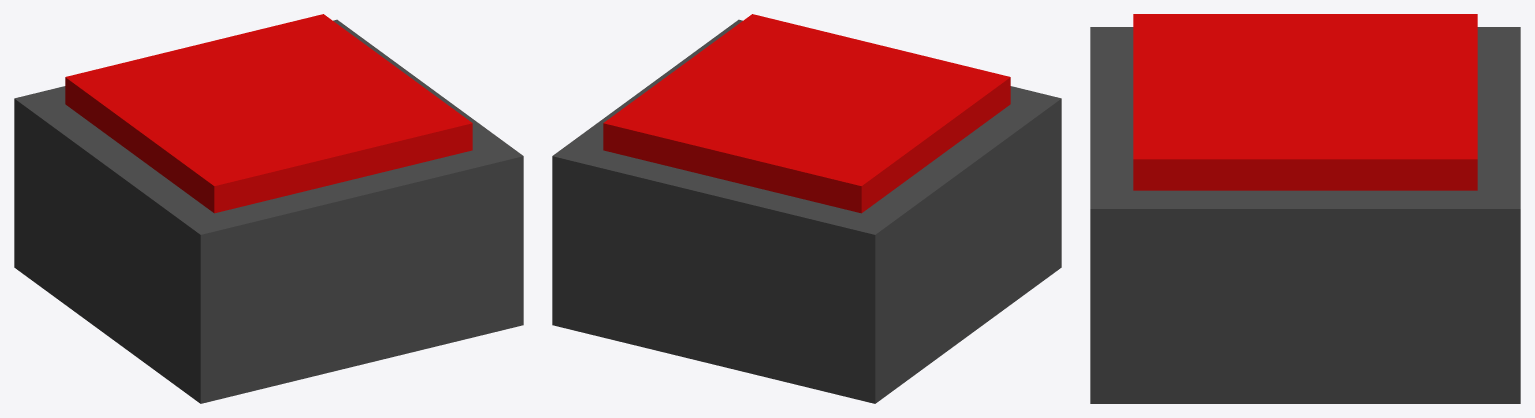
File: Button_Down.fbx
3 renders of one model, left to right at view 1: azimuth 30°, elevation 25°; view 2: azimuth 150°, elevation 25°; view 3: azimuth 270°, elevation 25°, orthographic. The views are drawn at different scales.
Parts seen in each view (by area): view 1: pCube6; view 2: pCube6; view 3: pCube6.
Part boxes in pixels (box(x1,y1,x2,y2)): pCube6: box(14, 14, 523, 403); pCube6: box(552, 14, 1061, 403); pCube6: box(1090, 14, 1520, 403).
Bounding box in the file's own units: 1 × 0.5803 × 1.
